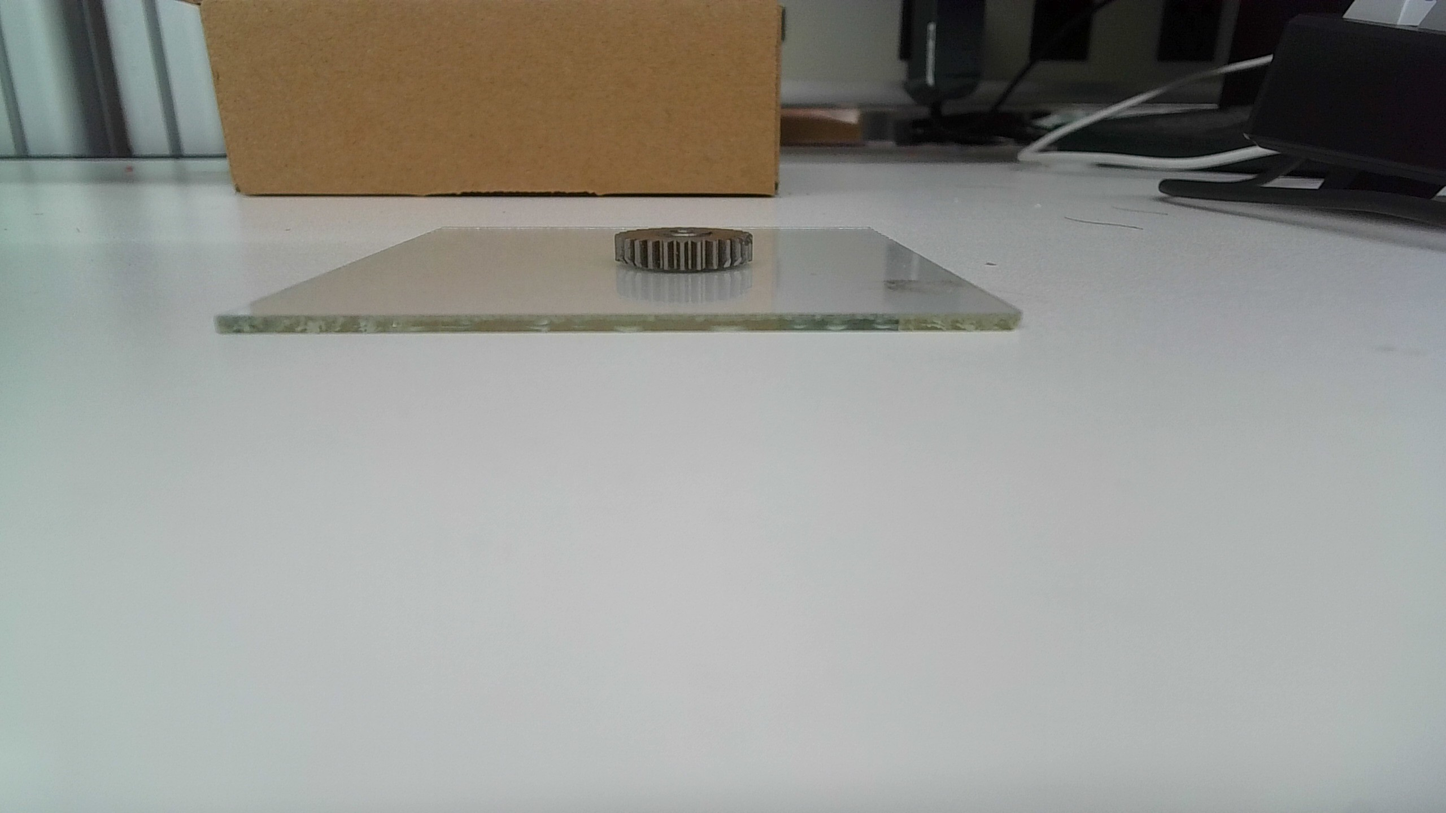gear: (611, 227, 760, 273)
